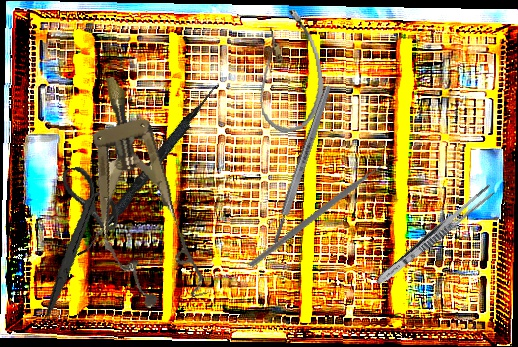Cannula: (247, 6, 330, 136)
Chopper: (247, 130, 399, 303)
Dressing Forceps: (372, 181, 497, 290)
Iris Scissors: (11, 159, 139, 318)
Scalpel Handle: (270, 83, 334, 246)
Spatula Surgical: (77, 80, 219, 263)
Speculum: (65, 66, 212, 315)
